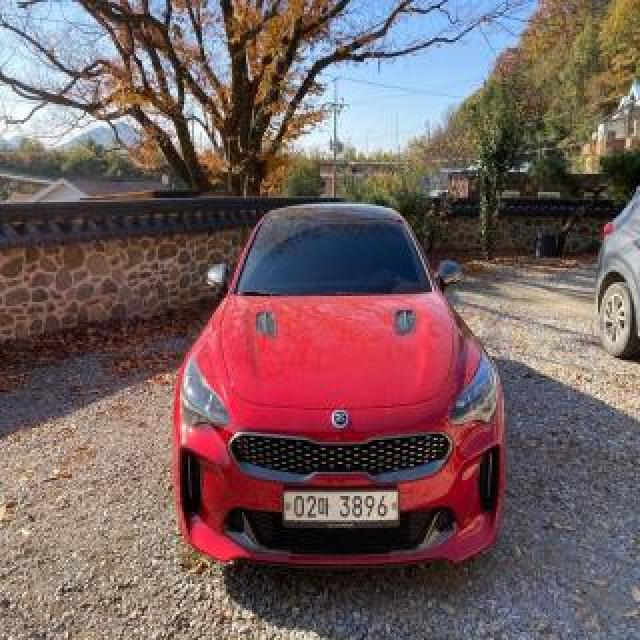car: (166, 197, 511, 581)
illegal_plate: (280, 486, 402, 530)
